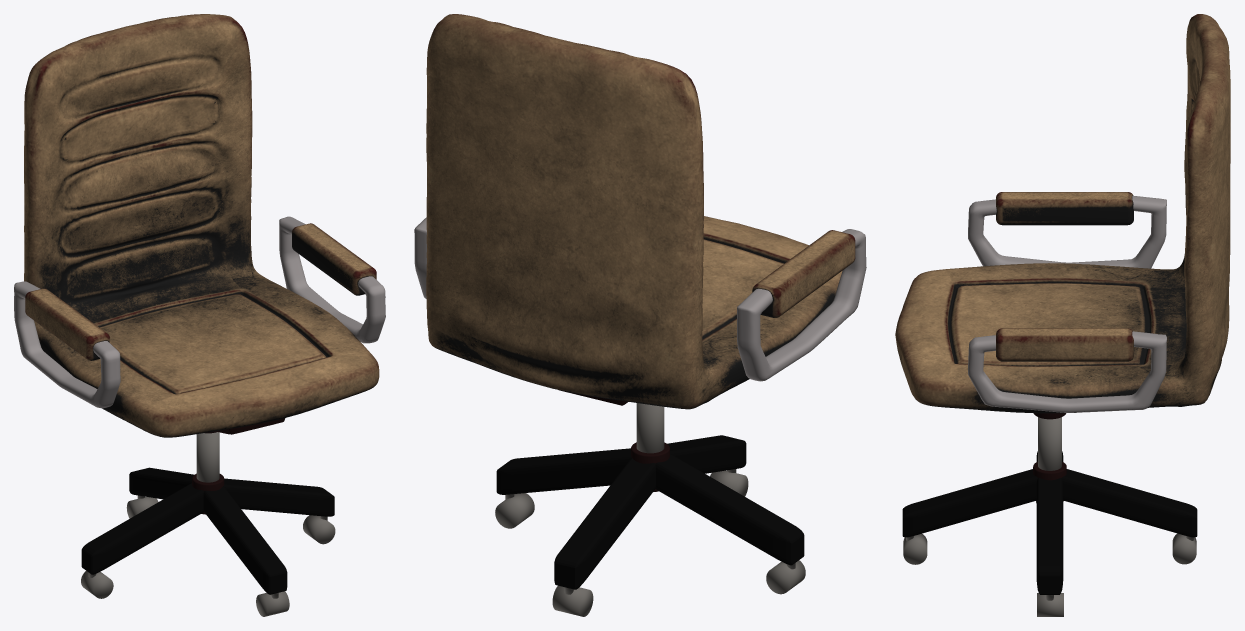
Rendered from office_chair.glb.
3 renders of one model, left to right at view 1: azimuth 30°, elevation 25°; view 2: azimuth 150°, elevation 25°; view 3: azimuth 270°, elevation 25°, orthographic. The views are drawn at different scales.
Parts seen in each view (by area): view 1: Cube_2, Cube.002_10, Cube_001_4, bool_obj_6, bool_obj.005_13, bool_obj.002_8; view 2: Cube_2, Cube.002_10, Cube_001_4, bool_obj_6, bool_obj.005_13, bool_obj.002_8; view 3: Cube_2, Cube.002_10, bool_obj_6, Cube_001_4, bool_obj.005_13, bool_obj.002_8.
Part boxes in pixels (bbox=[...]): Cube_2: bbox=[24, 14, 379, 437]; Cube.002_10: bbox=[81, 467, 334, 594]; Cube_001_4: bbox=[14, 216, 385, 408]; bool_obj_6: bbox=[25, 223, 376, 360]; bool_obj.005_13: bbox=[81, 497, 335, 616]; bool_obj.002_8: bbox=[196, 432, 219, 482]; Cube_2: bbox=[426, 14, 842, 409]; Cube.002_10: bbox=[496, 435, 804, 589]; Cube_001_4: bbox=[414, 217, 866, 381]; bool_obj_6: bbox=[752, 230, 855, 317]; bool_obj.005_13: bbox=[495, 470, 805, 616]; bool_obj.002_8: bbox=[636, 403, 664, 453]; Cube_2: bbox=[895, 14, 1230, 413]; Cube.002_10: bbox=[902, 451, 1197, 594]; bool_obj_6: bbox=[996, 192, 1133, 361]; Cube_001_4: bbox=[968, 195, 1166, 412]; bool_obj.005_13: bbox=[903, 501, 1196, 616]; bool_obj.002_8: bbox=[1038, 417, 1061, 470].
Size of what is drawn, in the model's own units: 0.8787 by 1.39 by 0.8401.
Materials: 5 (1 with a texture image).
